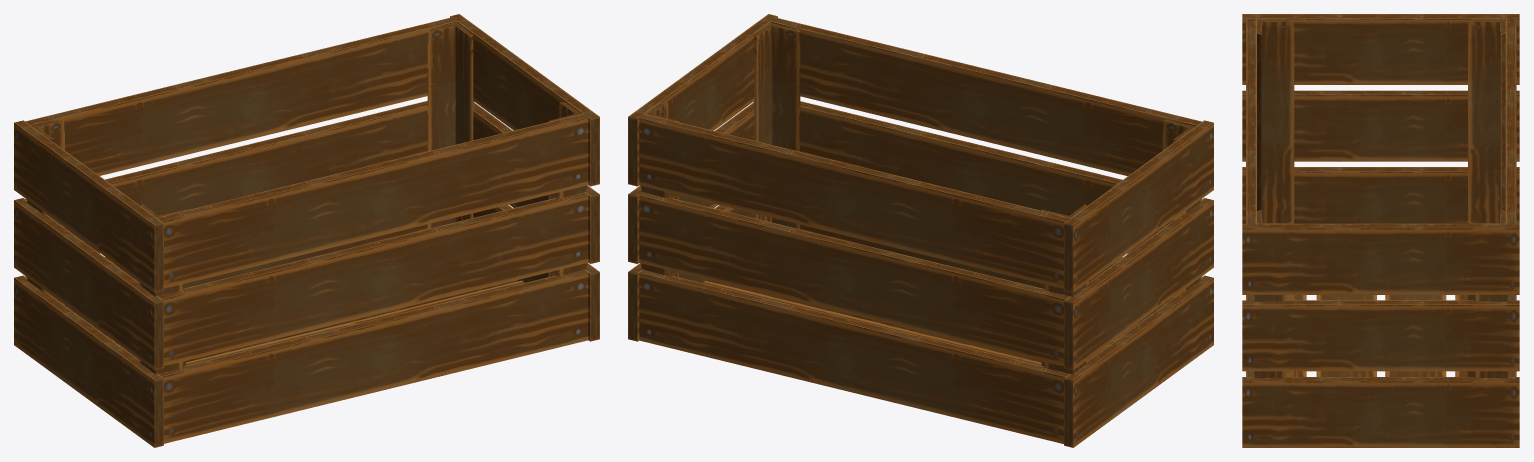
3 views of the same model, side by side, from view 1: azimuth 30°, elevation 25°; view 2: azimuth 150°, elevation 25°; view 3: azimuth 270°, elevation 25° (orthographic).
Visible parts, largest first — view 1: Cube.1387; view 2: Cube.1387; view 3: Cube.1387.
Part boxes in pixels (x1,y1,x2,y2): Cube.1387: (14,14,599,447); Cube.1387: (628,14,1213,447); Cube.1387: (1242,14,1519,447).
Bounding box in the file's own units: 179 × 85.41 × 97.68.
Materials: 1 (1 with a texture image).
